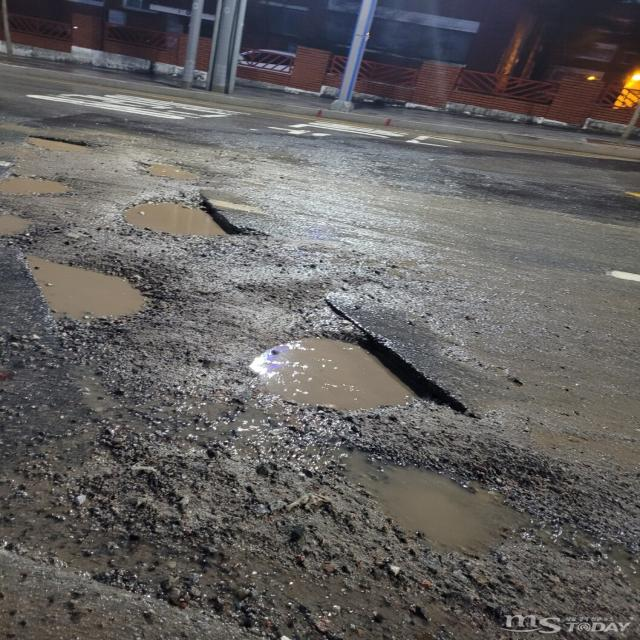pothole: (308, 442, 534, 575), (239, 316, 435, 420), (11, 253, 180, 347), (106, 200, 263, 237), (31, 118, 114, 160), (0, 168, 82, 204), (128, 156, 207, 188), (0, 212, 47, 250)
